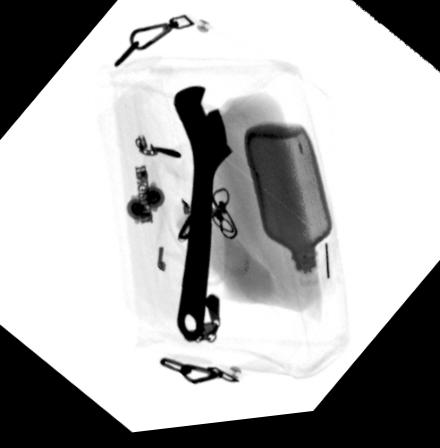Wrench: (171, 86, 234, 346)
